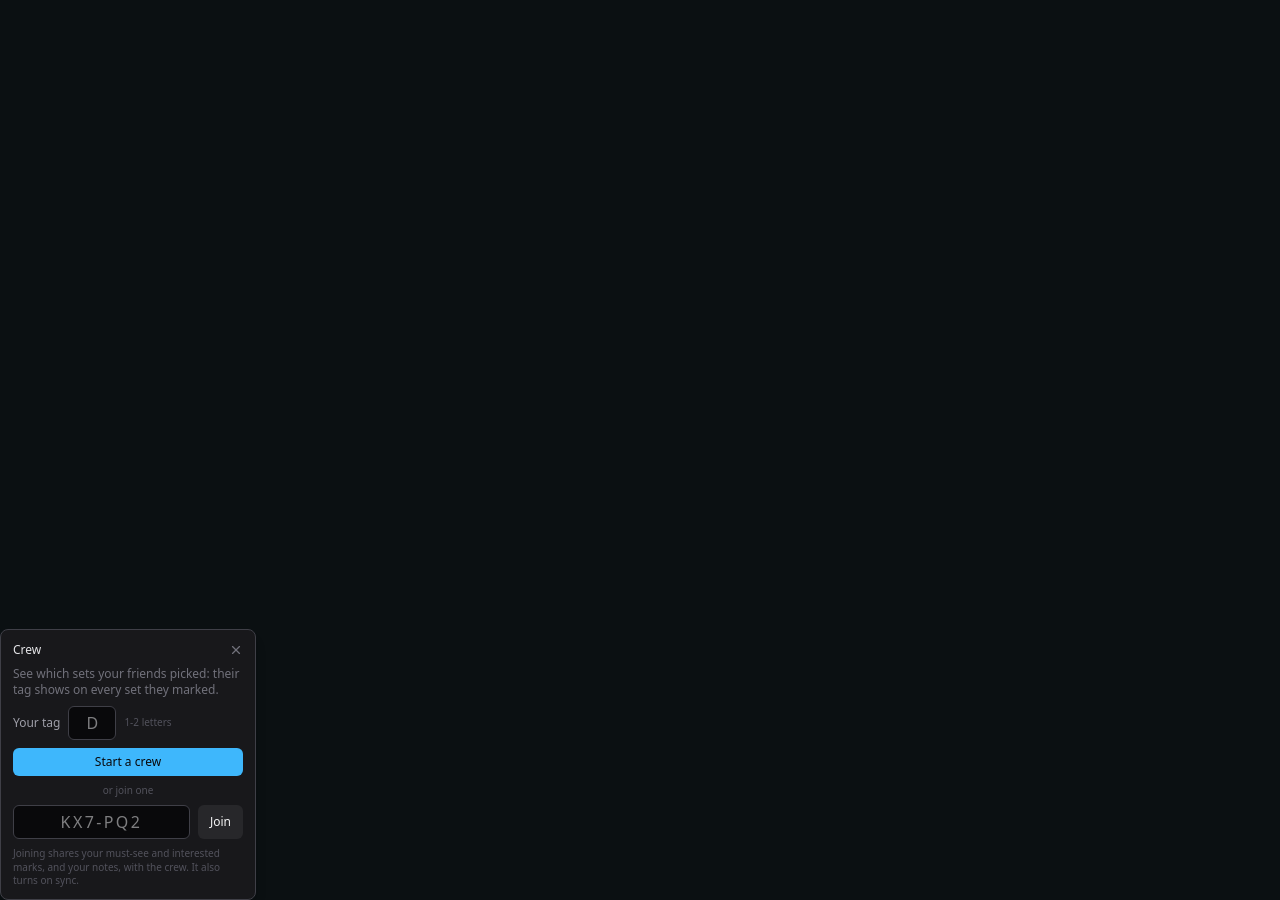
CrewPanel, not in a crew › shows the tag-taken error in words
(page scrolled)
In the field labelled "Your tag": {"x": 92, "y": 723} [68,706,116,740], type "Zs"
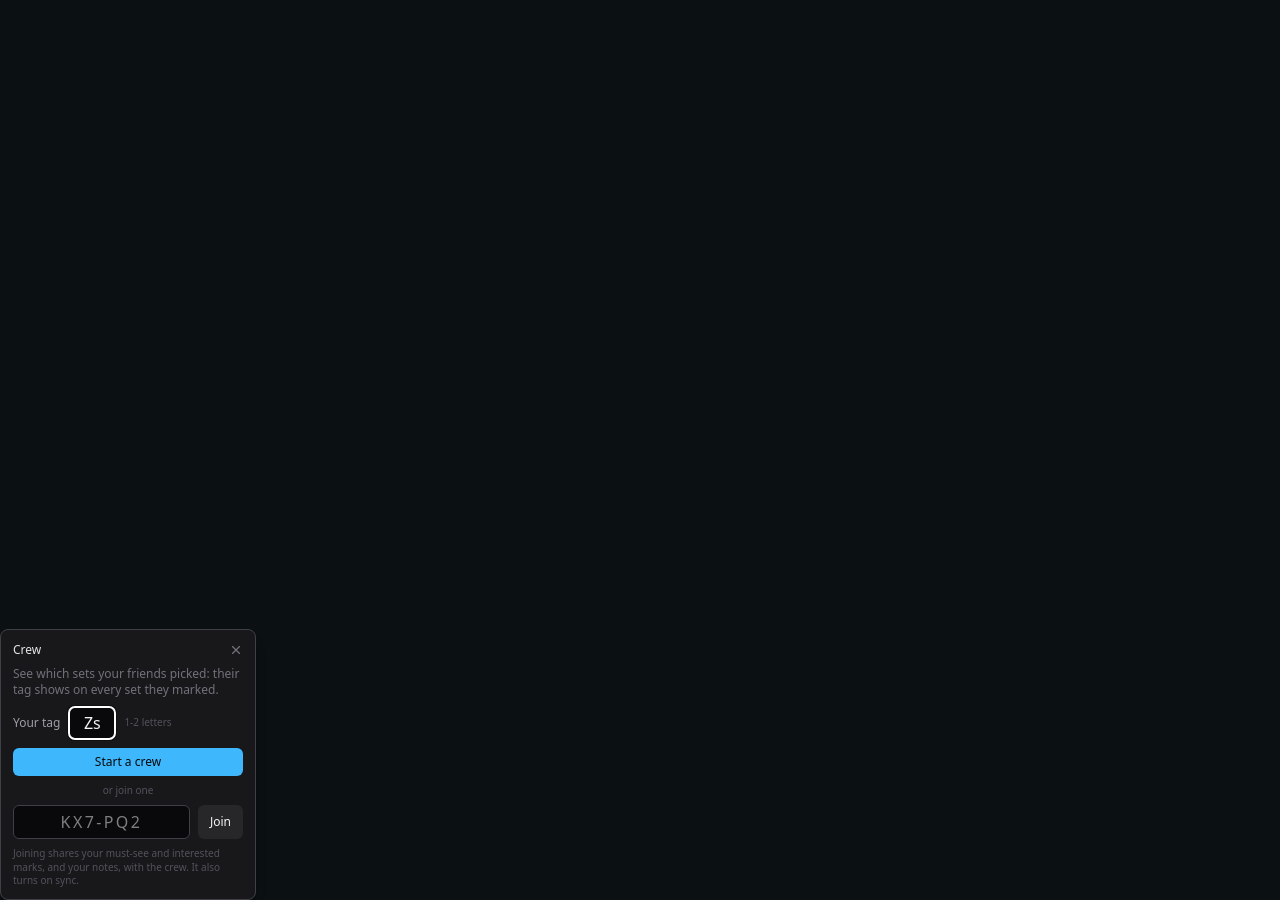
In the field named "Crew code": {"x": 101, "y": 822} [13,805,190,839], type "KX7PQ2"
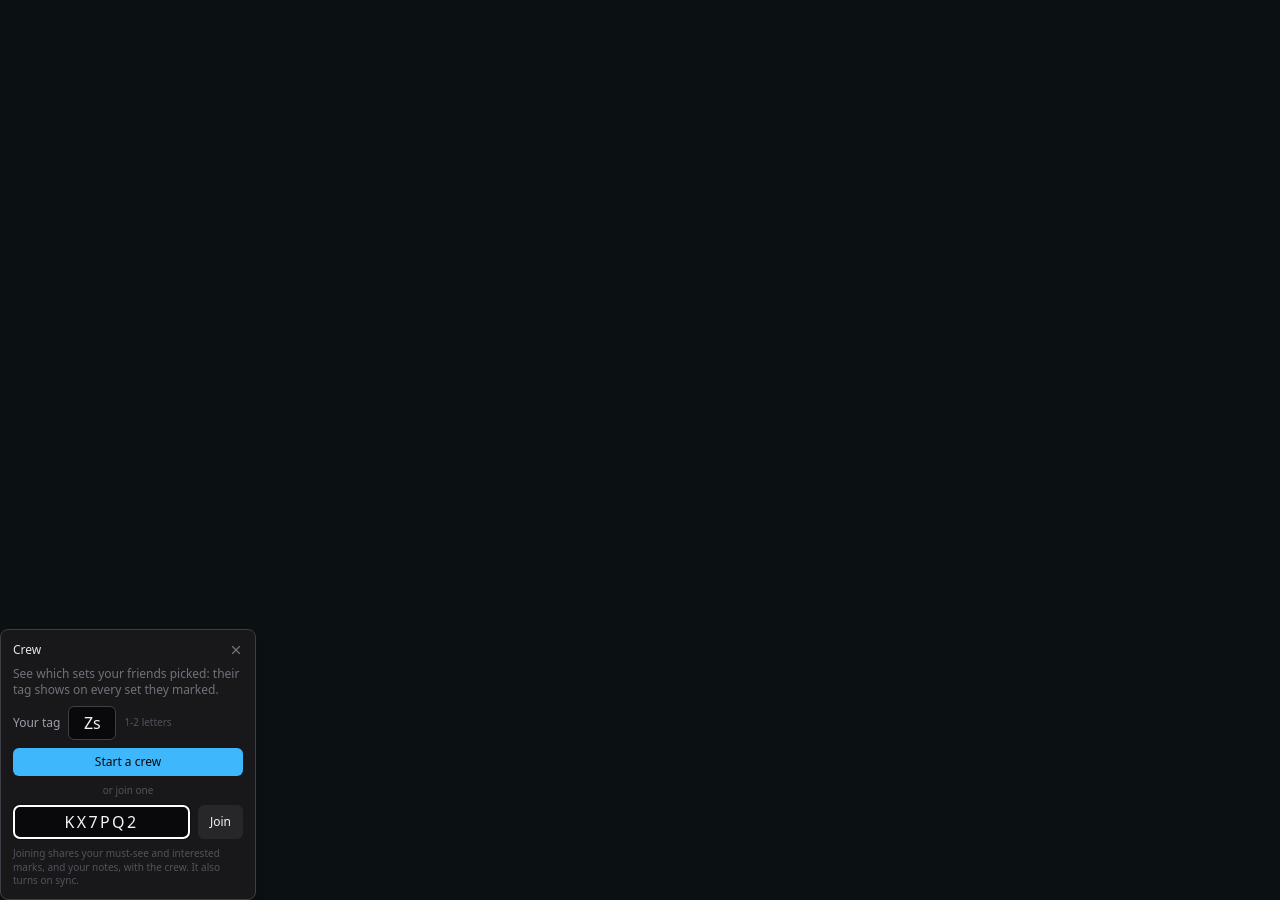
Click the button "Join": {"x": 220, "y": 822} [198,805,243,839]
(page scrolled)
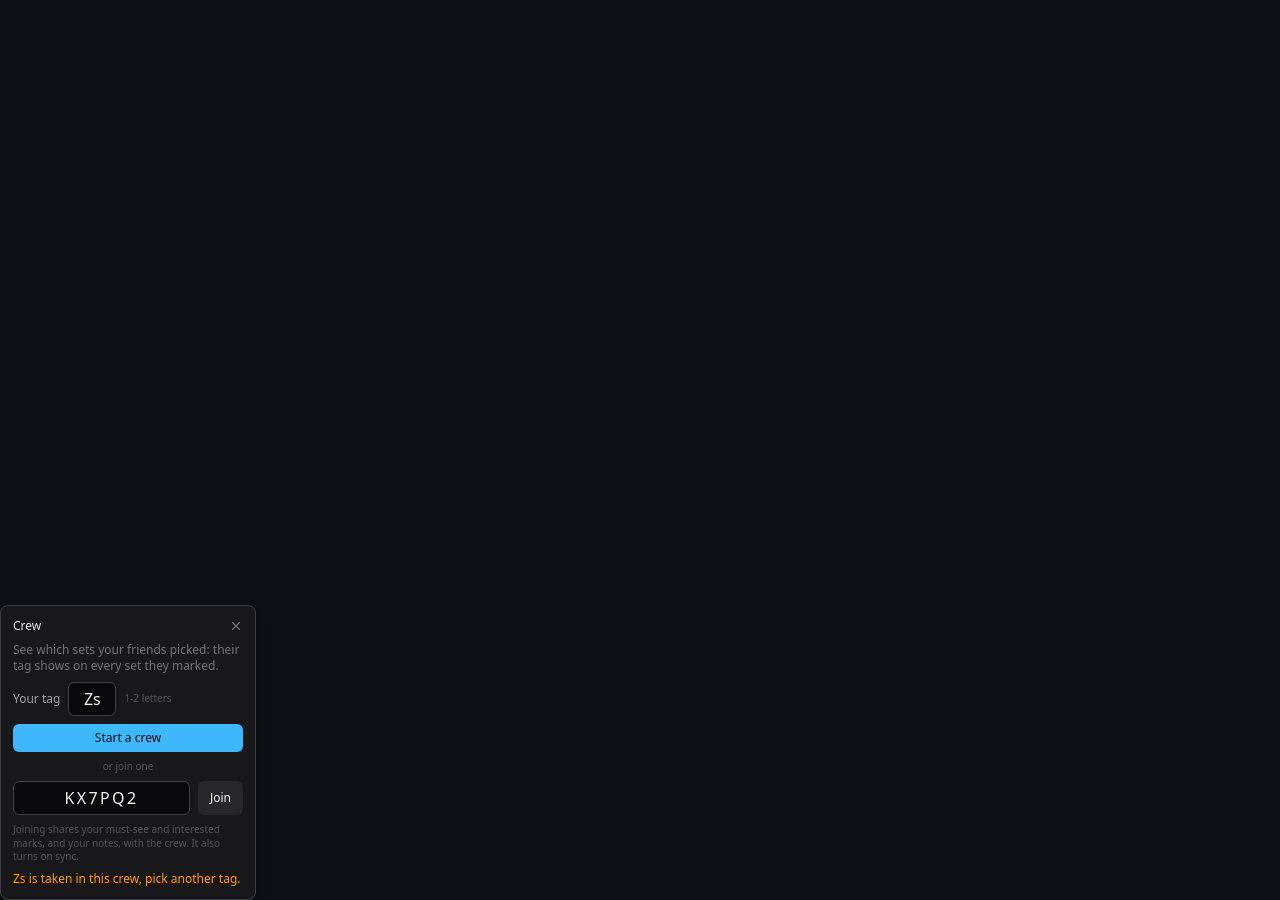
expect the message reads "Zs is taken in this crew, pick another tag.": met, box [13,870,240,887]
